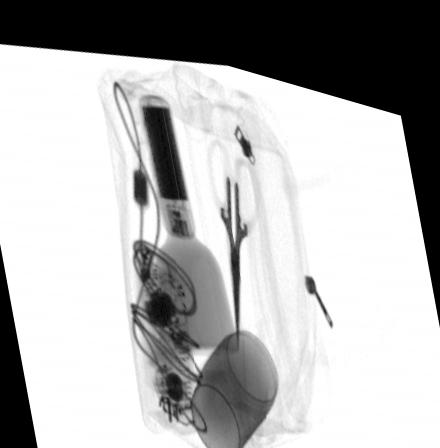Powerbank: (137, 85, 195, 227)
Scissors: (206, 126, 263, 347)
